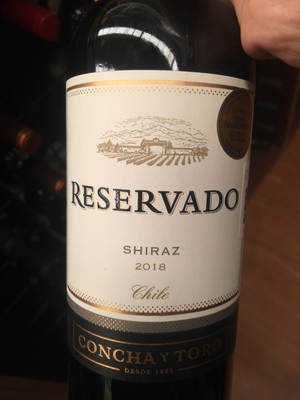reservado shiraz: (59, 8, 251, 400)
